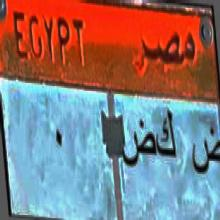0: (50, 117, 71, 161)
daad: (123, 117, 156, 179), (190, 116, 220, 177)
kaaf: (156, 107, 180, 165)
